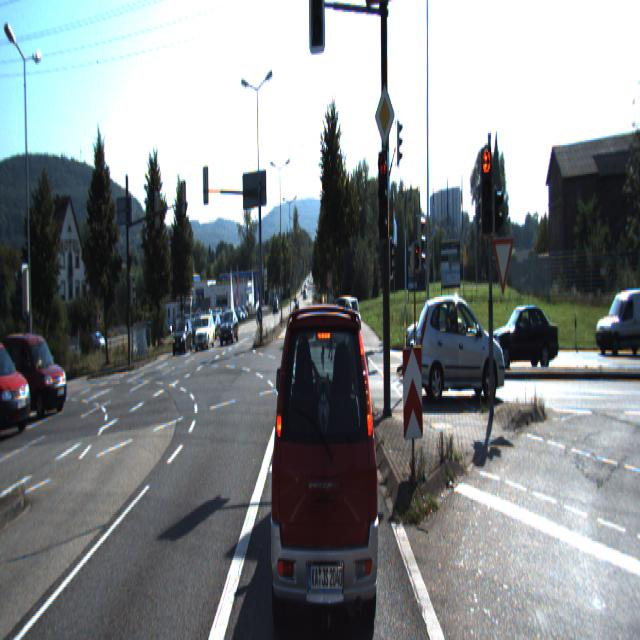Car: (267, 277, 381, 636), (413, 291, 507, 397), (0, 322, 68, 416), (488, 298, 560, 373), (407, 301, 463, 358), (595, 283, 640, 352), (172, 321, 193, 355), (195, 316, 215, 350), (219, 310, 239, 344)
